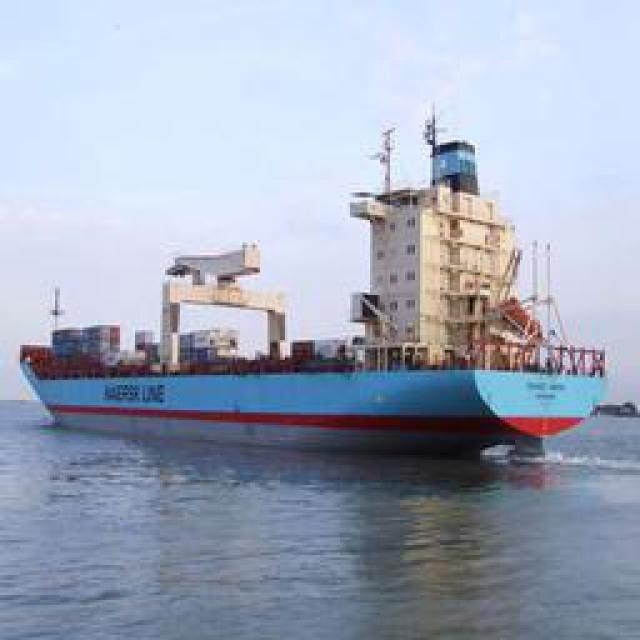Ship: (30, 152, 620, 450)
